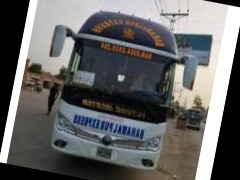bus: (45, 2, 187, 174)
